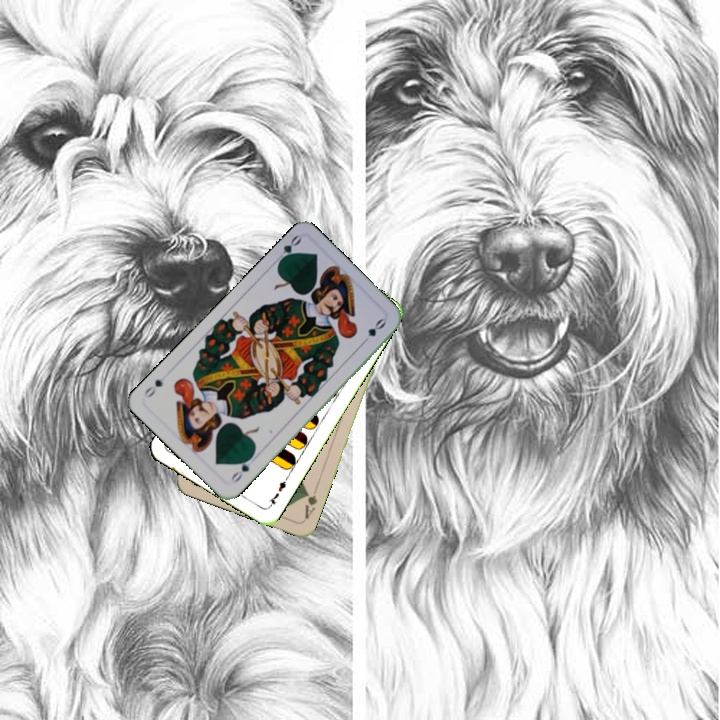E7: (264, 473, 291, 510)
GA: (301, 483, 320, 522)
GO: (271, 231, 304, 268), (226, 451, 256, 485)
